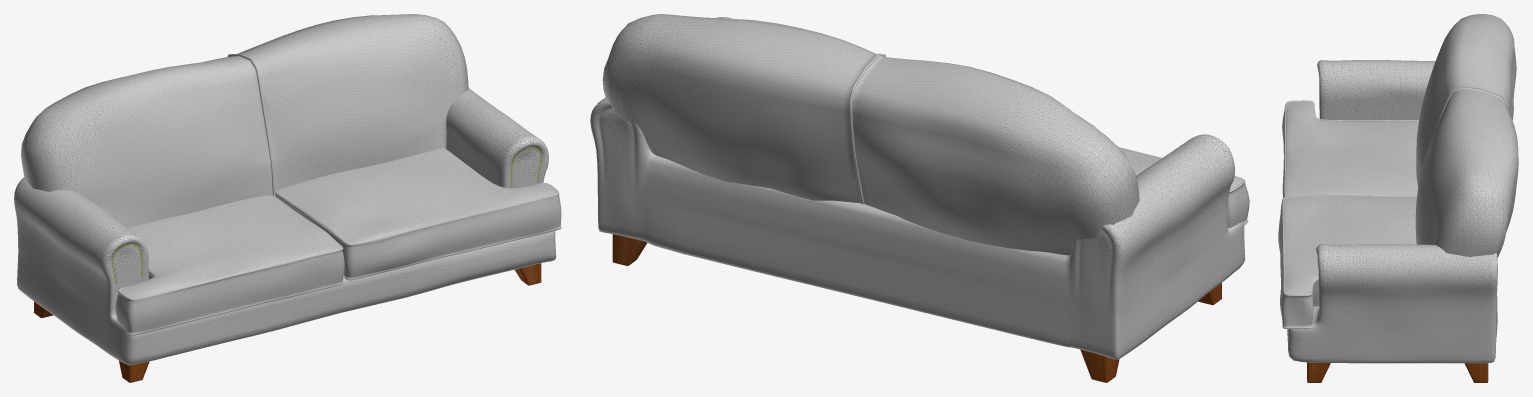
The model's file is leather_sofafix.fbx.
3 renders of one model, left to right at view 1: azimuth 30°, elevation 25°; view 2: azimuth 150°, elevation 25°; view 3: azimuth 270°, elevation 25°, orthographic. The views are drawn at different scales.
Parts seen in each view (by area): view 1: sofa_bse; view 2: sofa_bse; view 3: sofa_bse.
Boxes of the visible parts, box(x1,y1,x2,y2) form: sofa_bse: box(14, 14, 561, 382); sofa_bse: box(590, 14, 1249, 382); sofa_bse: box(1278, 14, 1518, 382).
Bounding box in the file's own units: 1.92 × 0.911 × 0.9515.
